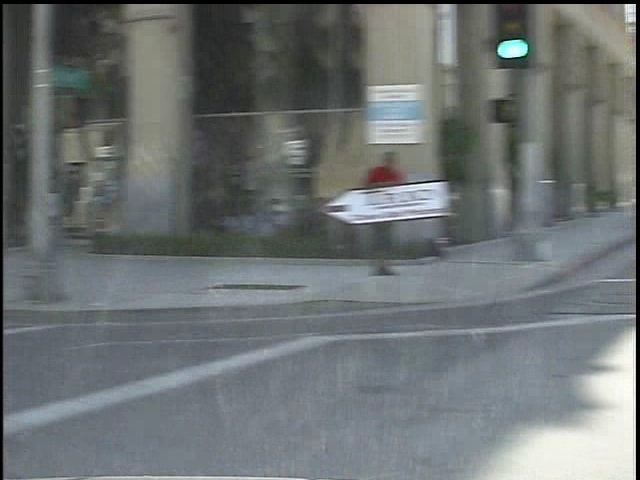person: (350, 141, 394, 280)
